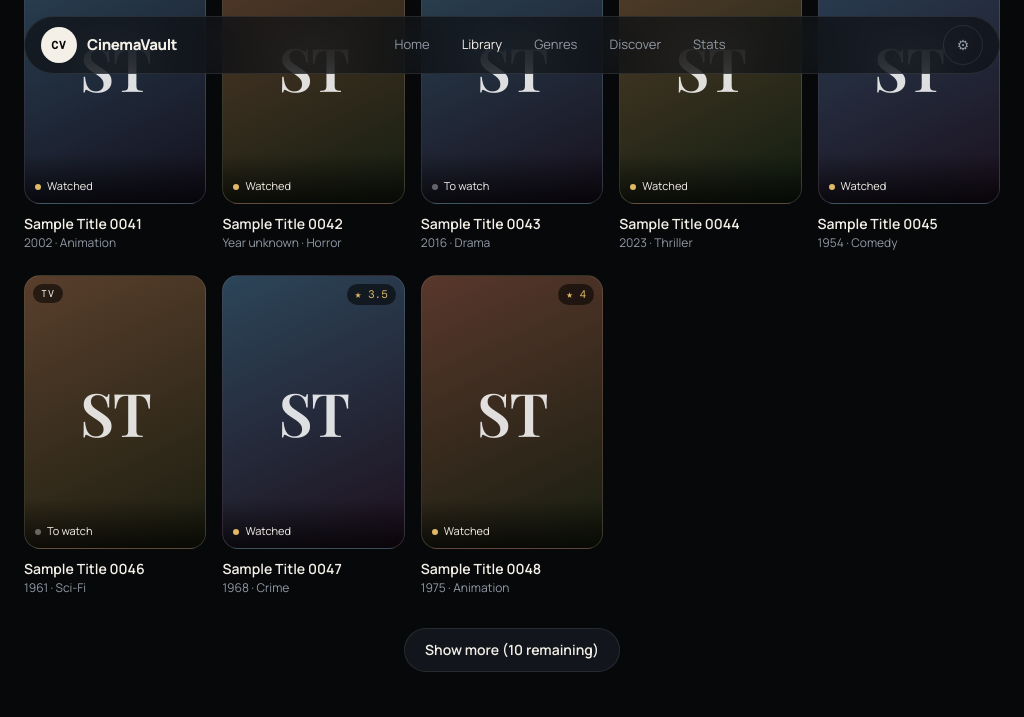
Test: library: search, filters and URL state › pages the grid instead of rendering everything at once
This screenshot has width=1024, height=717.
(page scrolled)
Click the button "Show more (10 remaining)". click: coordinates (512, 650)
box: [404, 628, 620, 672]
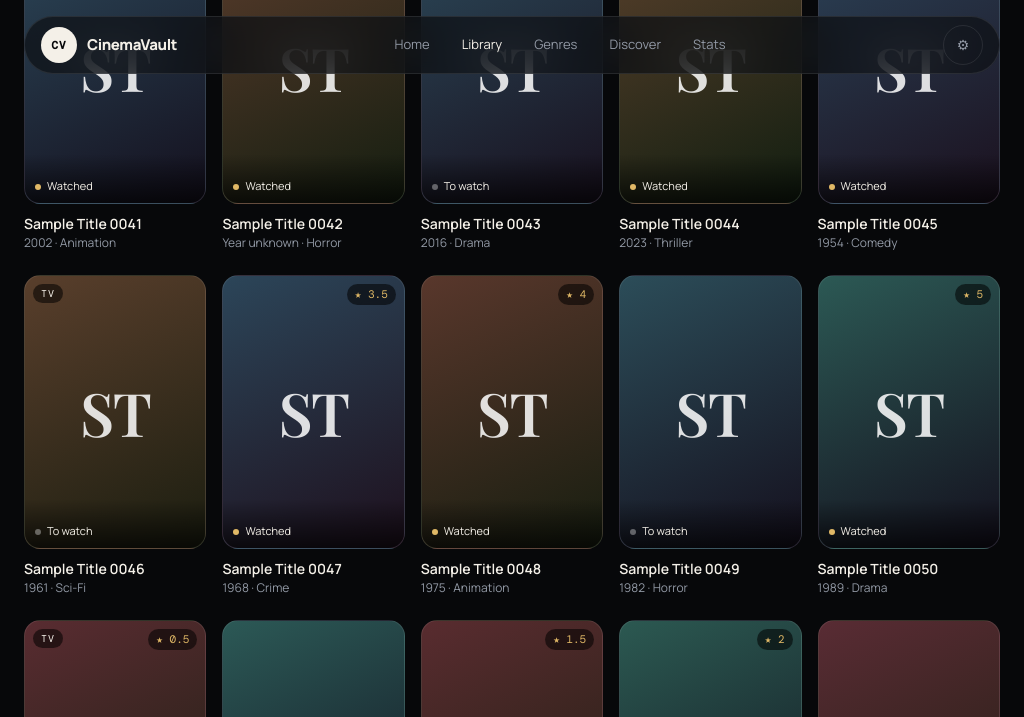
Now the button "Show more" is gone
